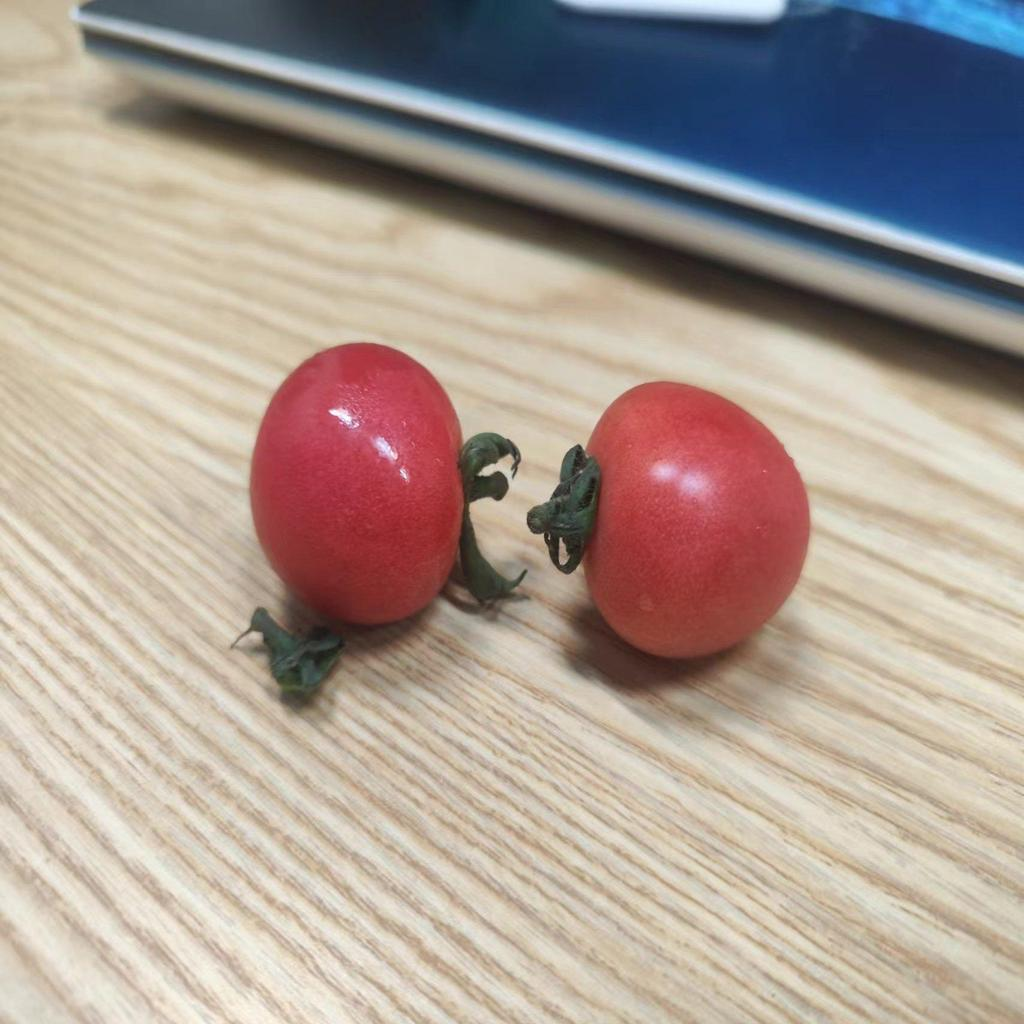tomato: (573, 389, 811, 656), (253, 341, 469, 631)
